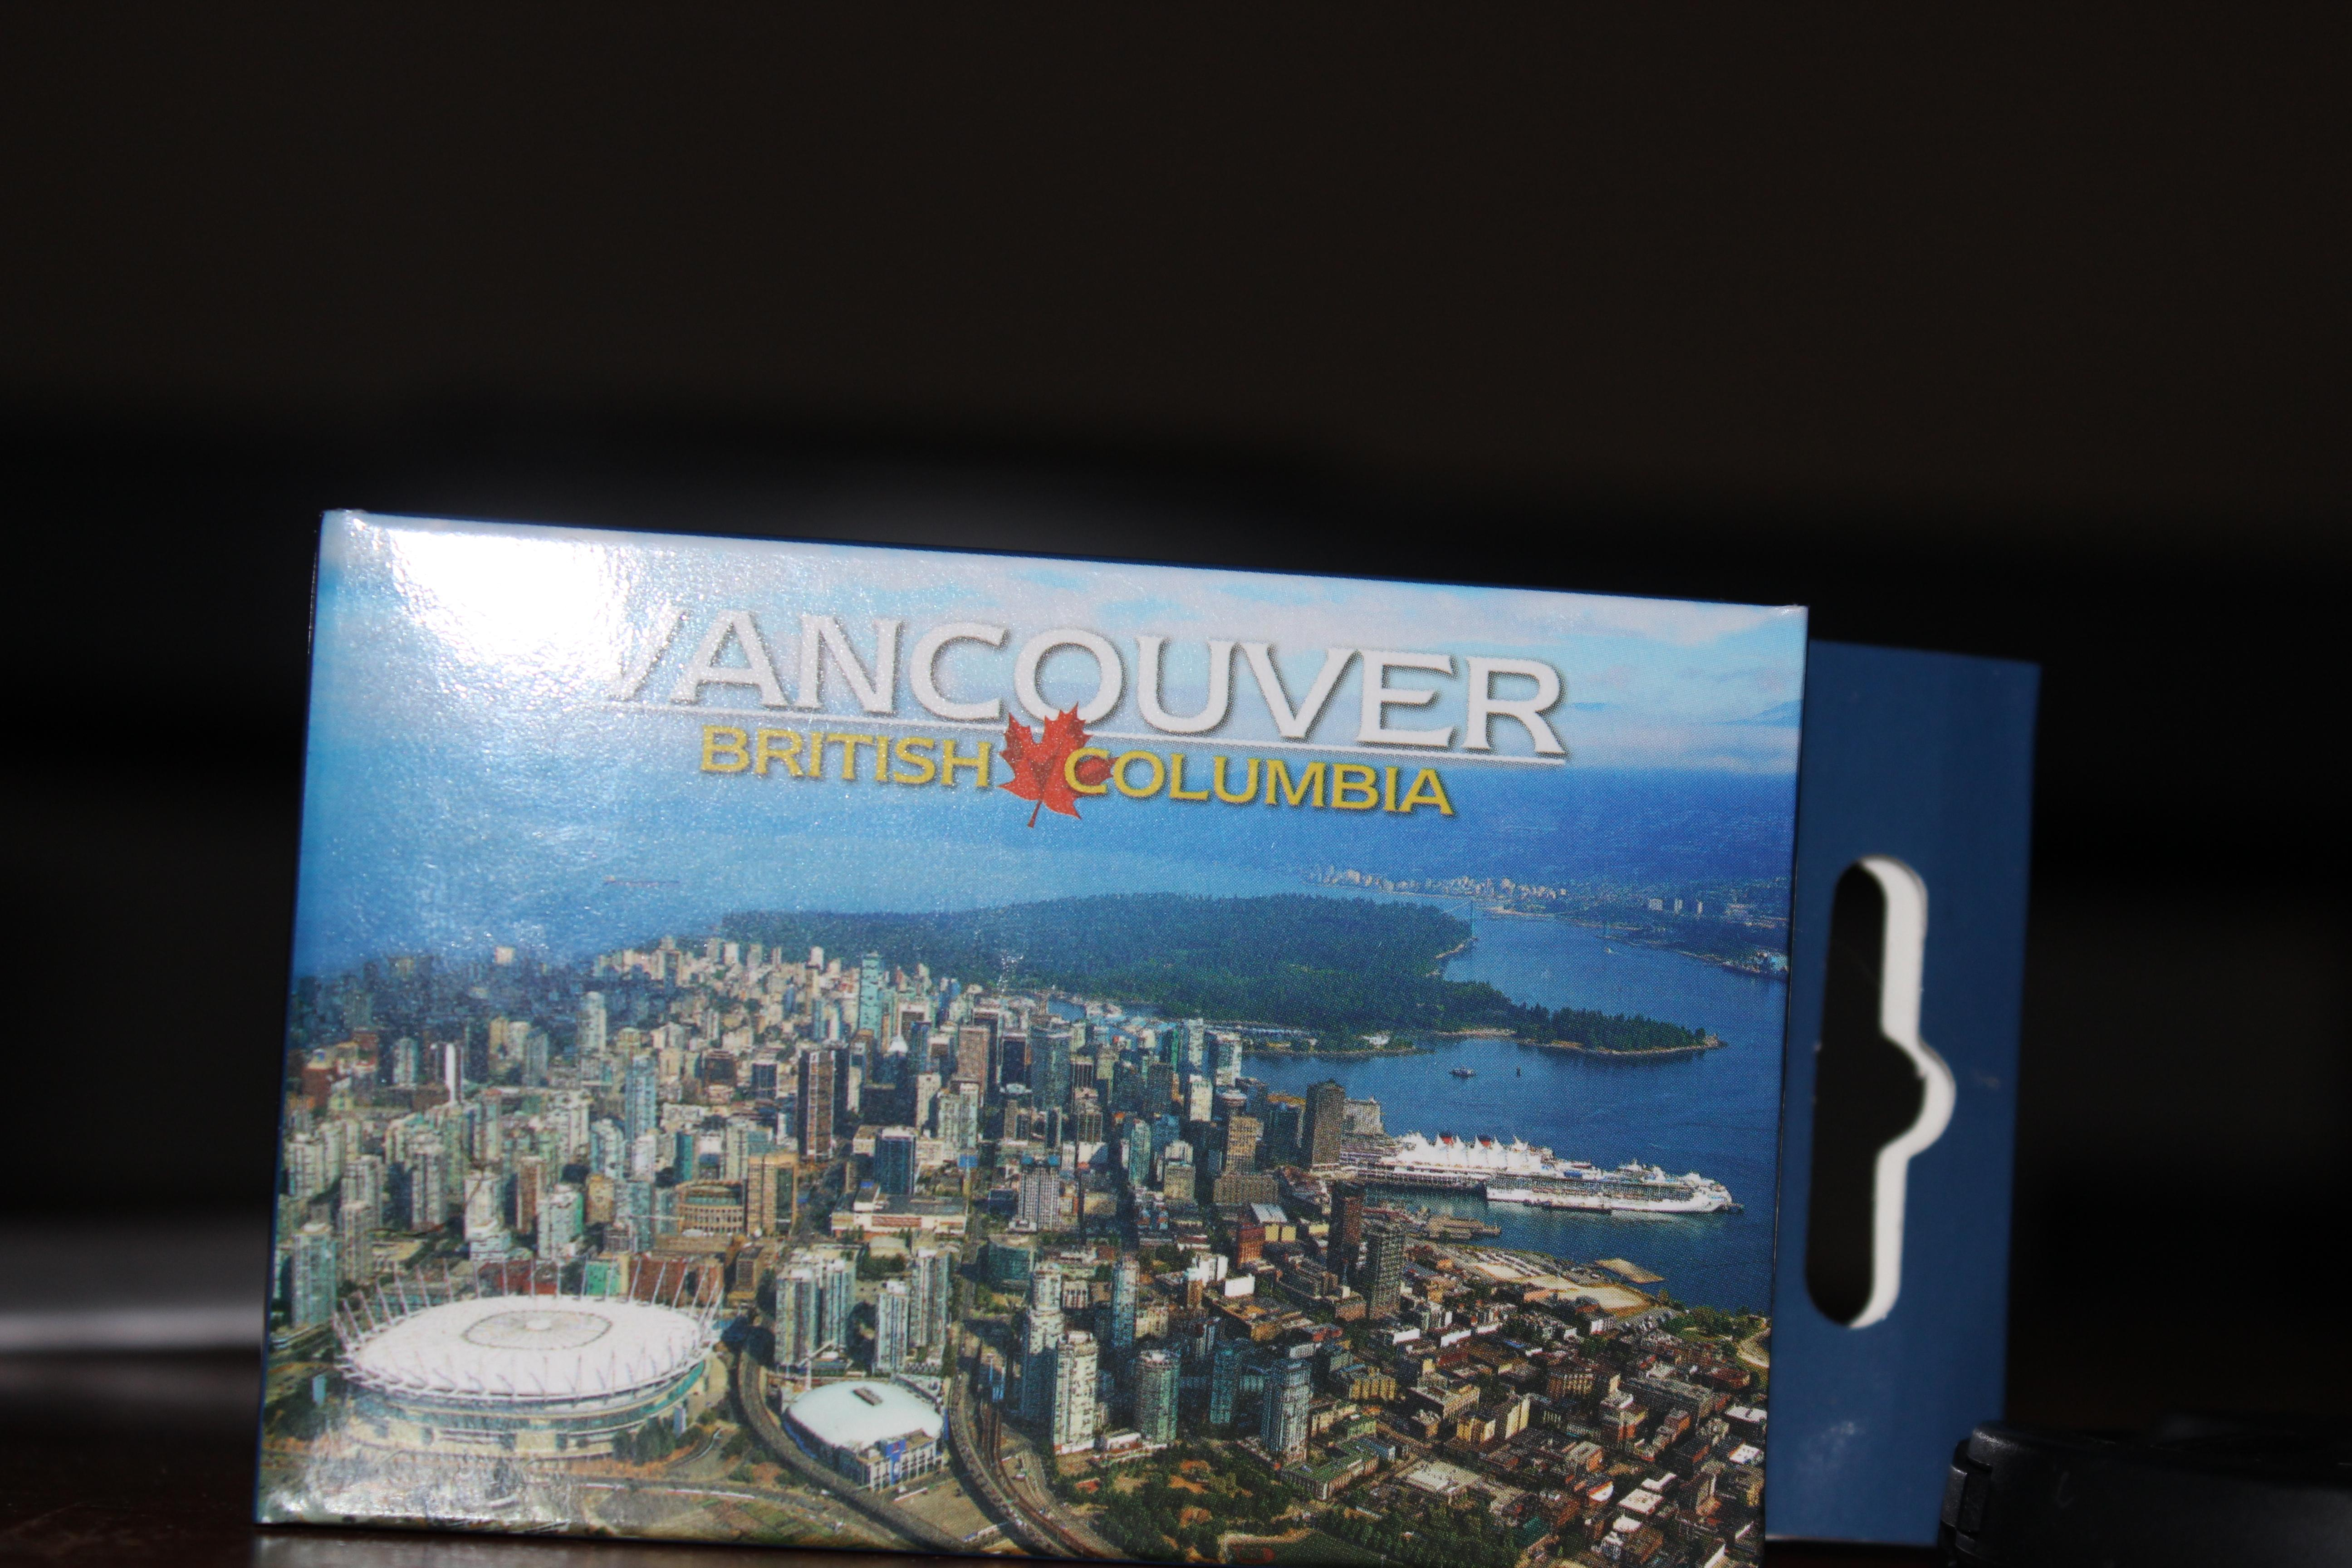vancouverCards: (217, 445, 2068, 1568)
